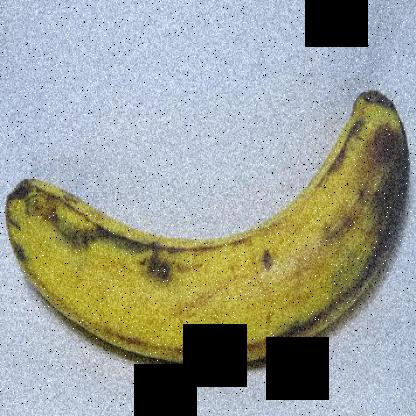ripe: (4, 85, 415, 373)
